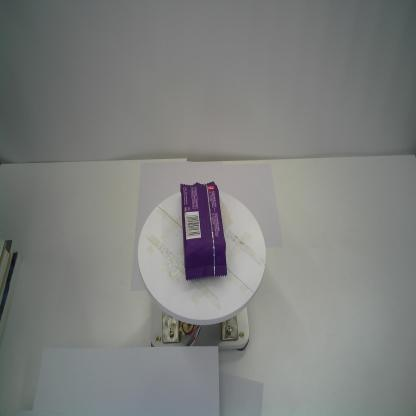Dessert: (180, 180, 228, 282)
